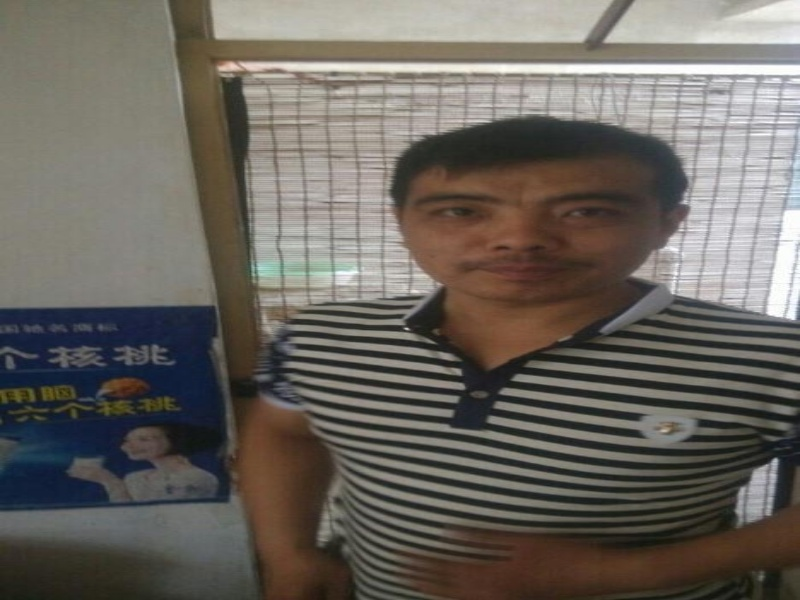short_sleeved_shirt: (244, 275, 798, 599)
